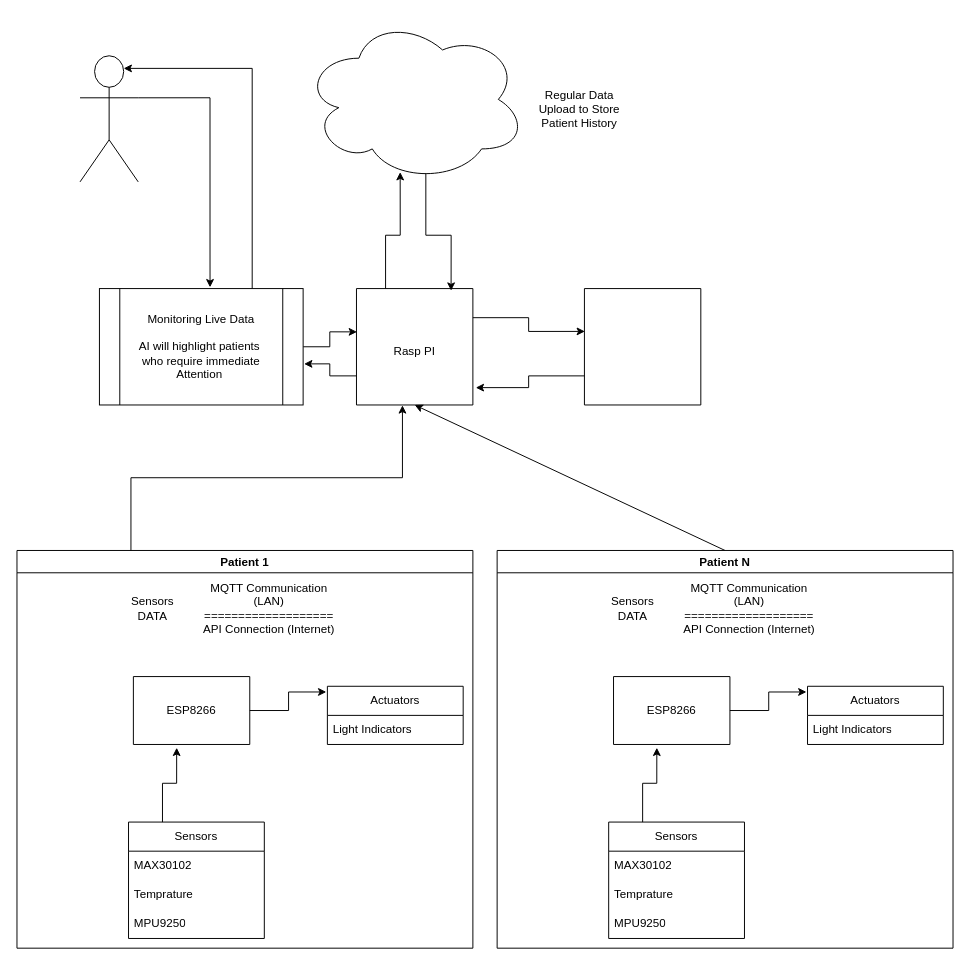
Image size: 970x965. Some labels were removed from this diagram. The shapes that lost their labels are listed below. From the top down, each one's box as (x1, y1, x2, y2) in pixels, then its label:
(79, 55, 138, 182): Doctor Monitoring All Patients
(302, 16, 526, 182): Cloud .. GCP
(583, 288, 701, 405): Ollama Server (Failsafe LLM)
